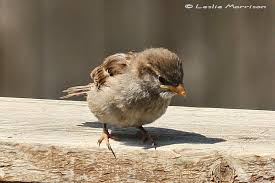hsparrow: (60, 45, 189, 162)
